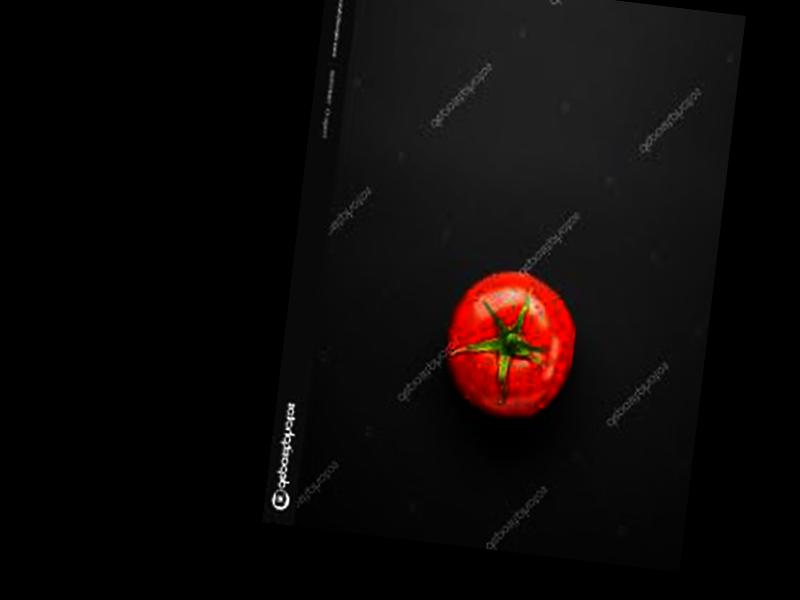Tomato: (438, 261, 584, 424)
